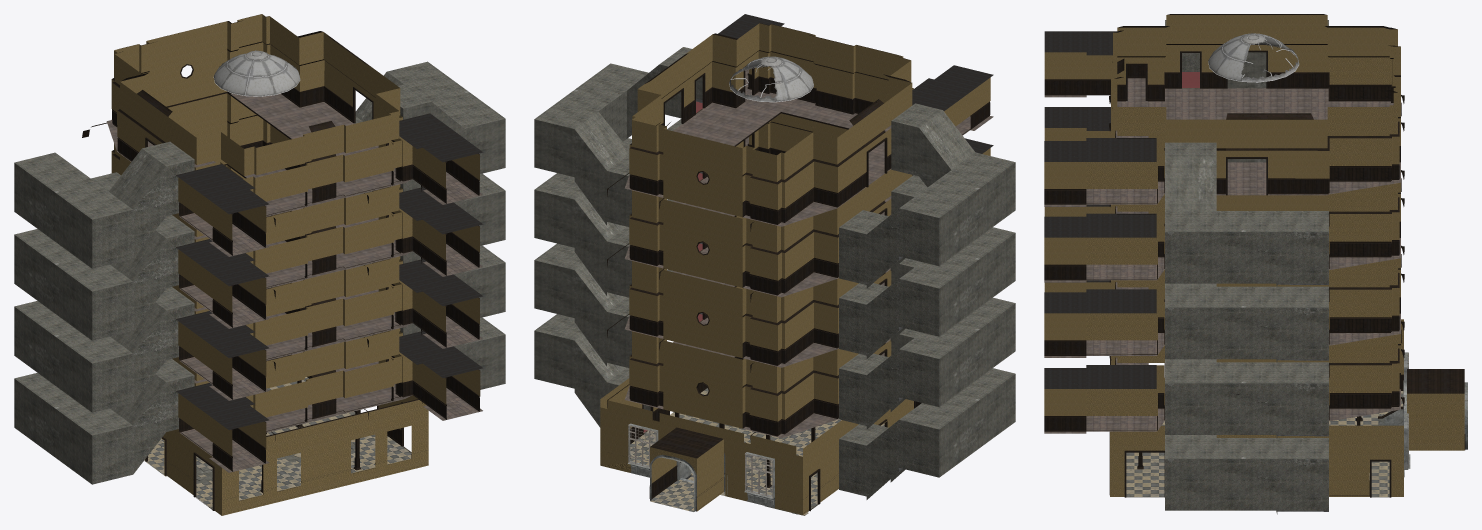
File: ALLinOneEingangshalle.fbx
3 renders of one model, left to right at view 1: azimuth 30°, elevation 25°; view 2: azimuth 150°, elevation 25°; view 3: azimuth 270°, elevation 25°, orthographic. The views are drawn at different scales.
Visible parts, largest first — view 1: 1gangobj.002; view 2: 1gangobj.002; view 3: 1gangobj.002.
Boxes of the visible parts, box(x1,y1,x2,y2) form: 1gangobj.002: box(14, 14, 505, 515); 1gangobj.002: box(534, 14, 1015, 515); 1gangobj.002: box(1044, 14, 1467, 514).
Bounding box in the file's own units: 122 × 110 × 103.
